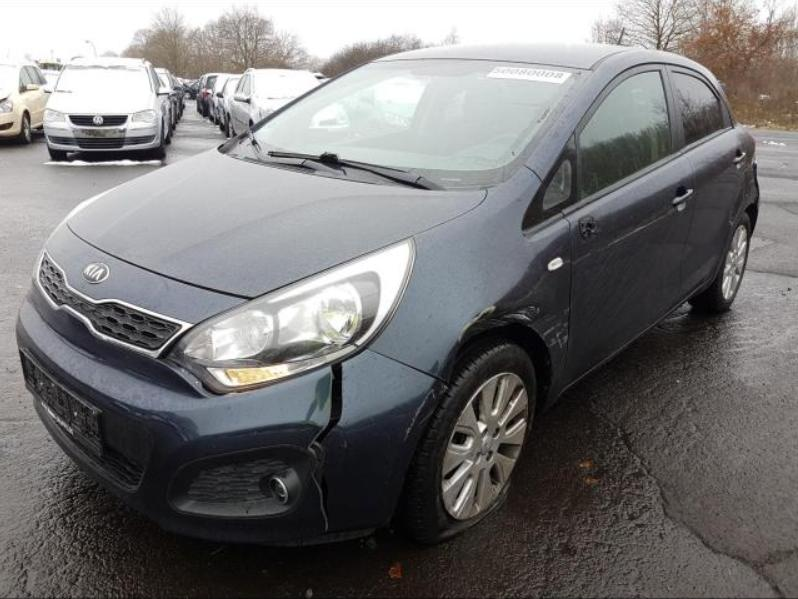Back-door: (666, 64, 746, 309)
Back-wheel: (688, 214, 750, 314)
Back-window: (672, 71, 724, 147)
Fender: (369, 163, 571, 413)
Front-bumper: (18, 226, 443, 548)
Front-door: (562, 63, 697, 390)
Front-wheel: (393, 336, 536, 544)
Front-window: (578, 70, 672, 198), (542, 161, 571, 210)
Grille: (34, 249, 192, 358)
Headlight: (166, 236, 418, 396), (48, 185, 125, 237)
Hood: (66, 146, 488, 301)
License-plate: (21, 347, 103, 462)
Quarter-panel: (716, 122, 759, 272)
Roof: (371, 42, 643, 70)
Tail-light: (752, 142, 759, 195)
Windshield: (221, 59, 590, 192)
